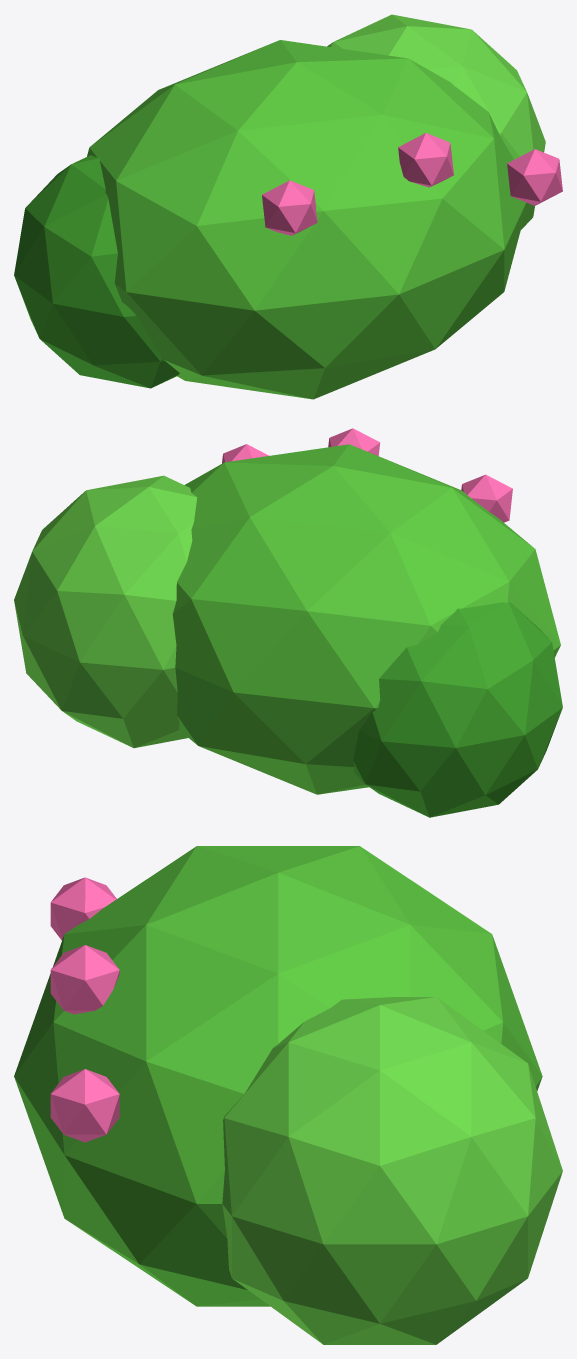
Rendered from bush.fbx.
3 renders of one model, top to bottom at view 1: azimuth 30°, elevation 25°; view 2: azimuth 150°, elevation 25°; view 3: azimuth 270°, elevation 25°, orthographic. The views are drawn at different scales.
Parts seen in each view (by area): view 1: Icosphere, Icosphere.002, Icosphere.001, Icosphere.005, Icosphere.003, Icosphere.004; view 2: Icosphere, Icosphere.001, Icosphere.002, Icosphere.003, Icosphere.004, Icosphere.005; view 3: Icosphere, Icosphere.001, Icosphere.005, Icosphere.004, Icosphere.003.
Boxes of the visible parts, left/top/right/bottom form: Icosphere: left=87, top=40, right=527, bottom=399; Icosphere.002: left=14, top=155, right=179, bottom=388; Icosphere.001: left=327, top=14, right=545, bottom=229; Icosphere.005: left=507, top=149, right=562, bottom=205; Icosphere.003: left=262, top=180, right=317, bottom=235; Icosphere.004: left=398, top=133, right=453, bottom=187; Icosphere: left=172, top=444, right=560, bottom=794; Icosphere.001: left=14, top=475, right=197, bottom=748; Icosphere.002: left=353, top=602, right=562, bottom=817; Icosphere.003: left=461, top=474, right=512, bottom=522; Icosphere.004: left=328, top=428, right=380, bottom=455; Icosphere.005: left=222, top=444, right=269, bottom=463; Icosphere: left=14, top=846, right=542, bottom=1306; Icosphere.001: left=222, top=997, right=562, bottom=1344; Icosphere.005: left=50, top=1069, right=119, bottom=1142; Icosphere.004: left=50, top=945, right=119, bottom=1014; Icosphere.003: left=50, top=877, right=116, bottom=940.
Bounding box in the file's own units: 3.72 × 2.21 × 2.7.
